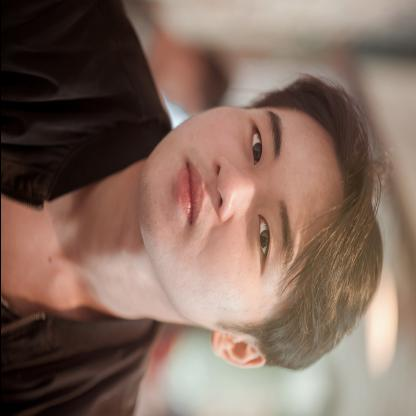Eye: (254, 210, 274, 276), (246, 120, 264, 168)
Mouth: (180, 150, 207, 230)
Nose: (212, 155, 254, 225)
